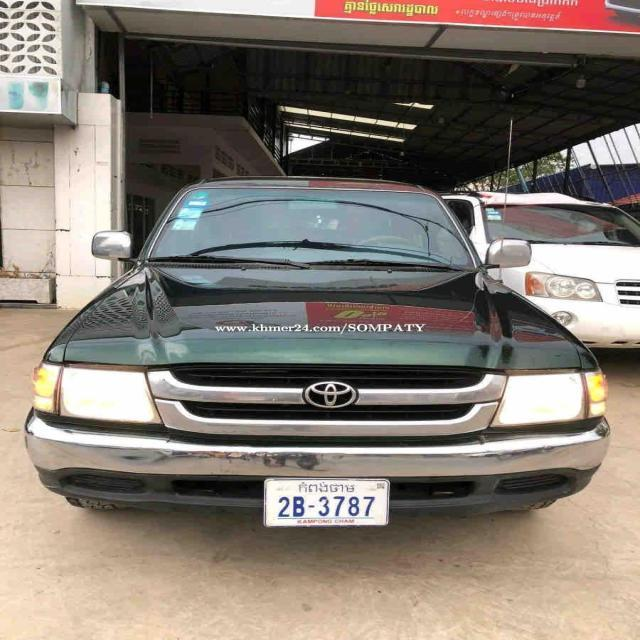Kampong_Cham: (298, 481, 356, 492)
